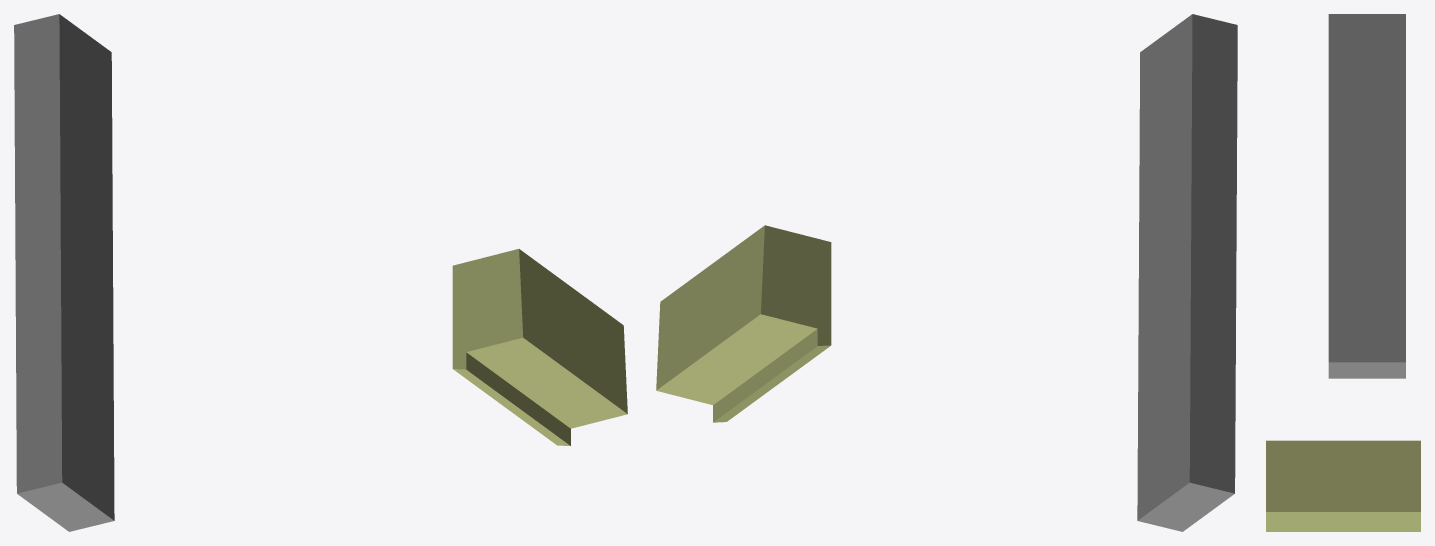
3 views of the same model, side by side, from view 1: azimuth 30°, elevation 25°; view 2: azimuth 150°, elevation 25°; view 3: azimuth 270°, elevation 25° (orthographic). The views are drawn at different scales.
Parts seen in each view (by area): view 1: 0_2_1_0_0_3_0_0_0; view 2: 0_2_1_0_0_3_0_0_0; view 3: 0_2_1_0_0_3_0_0_0.
Part boxes in pixels (box(x1,y1,x2,y2)): 0_2_1_0_0_3_0_0_0: box(14, 14, 627, 531); 0_2_1_0_0_3_0_0_0: box(656, 14, 1237, 531); 0_2_1_0_0_3_0_0_0: box(1266, 14, 1420, 531).
Size of the model in its own units: 17.18 by 14.84 by 6.
